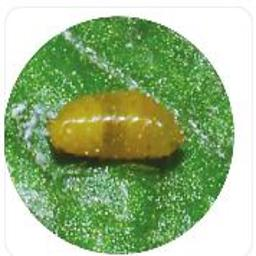liriomyza: (48, 91, 183, 167)
